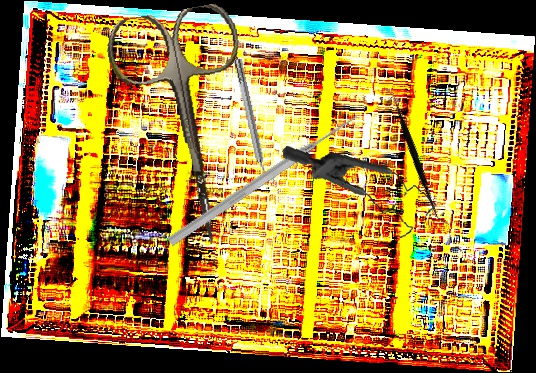Fixation Ring: (228, 57, 276, 187)
Iris Scissors: (102, 0, 275, 256)
Pusher: (166, 110, 361, 249)
Spatula Surgical: (340, 85, 493, 227)
Speculum: (282, 131, 439, 250)
